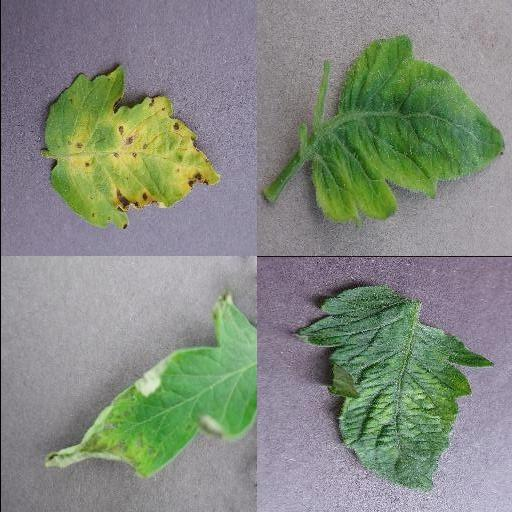Late Blight: (42, 291, 256, 481)
Mosaic Virus: (289, 283, 493, 493)
Septoria: (43, 61, 223, 231)
Yellow Leaf Curl Virus: (312, 34, 506, 230)
